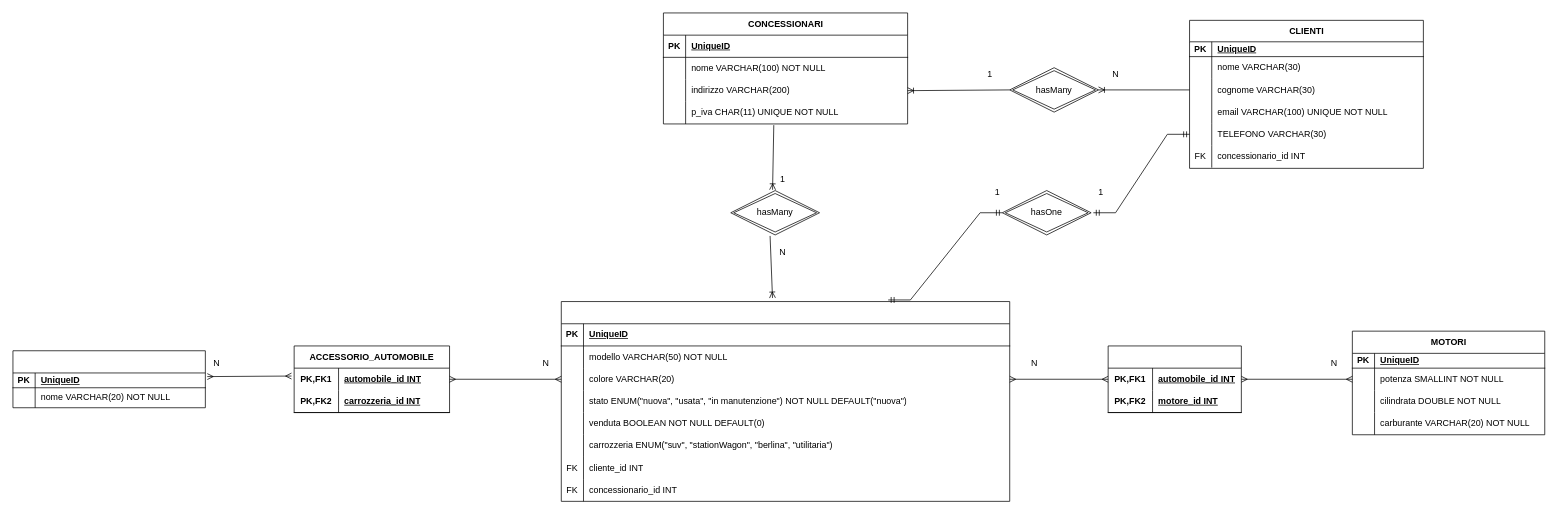
Some shapes in this 1558 by 514 pixel diagram are drawn without their labels. Each missing label, with the box of its shape:
ACCESSORI: (12, 350, 205, 408)
AUTOMOBILE_MOTORE: (1107, 345, 1241, 413)
AUTOMOBILI: (561, 301, 1010, 501)
